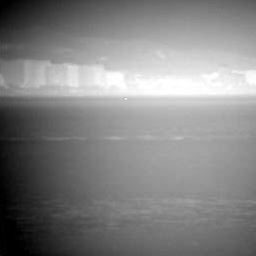Target: (123, 96, 129, 101)
